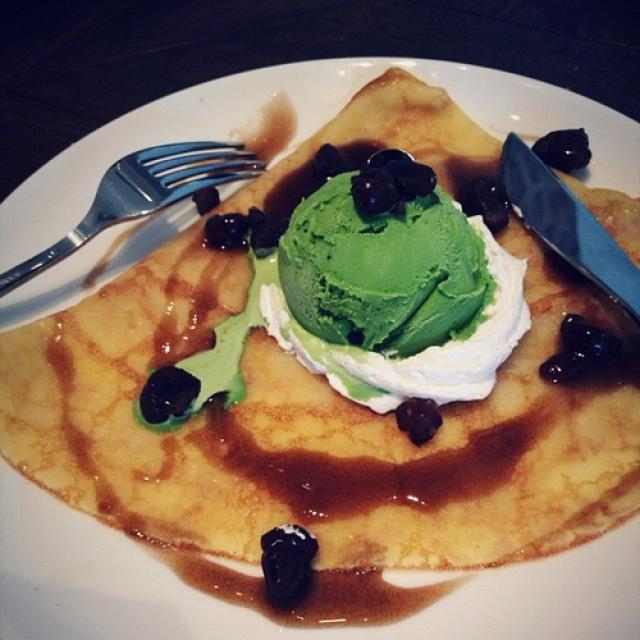蛋糕甜品: (23, 77, 620, 604)
